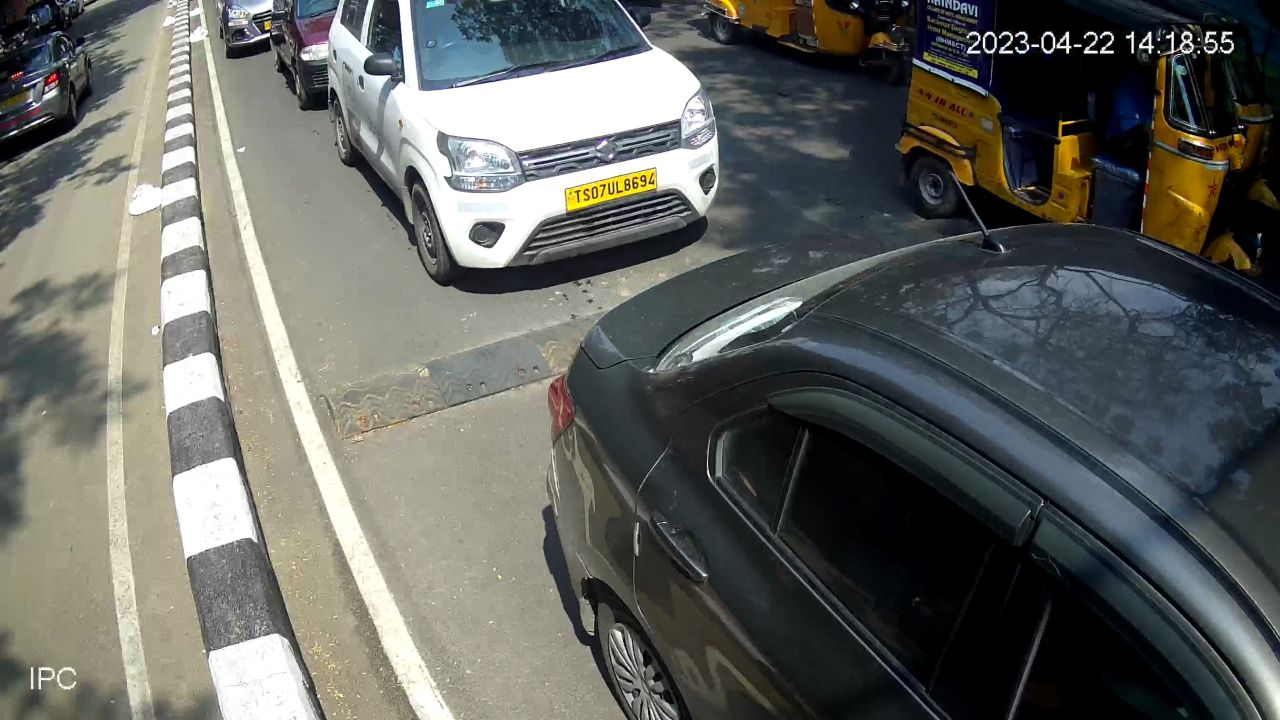license_plate: (562, 163, 666, 220)
